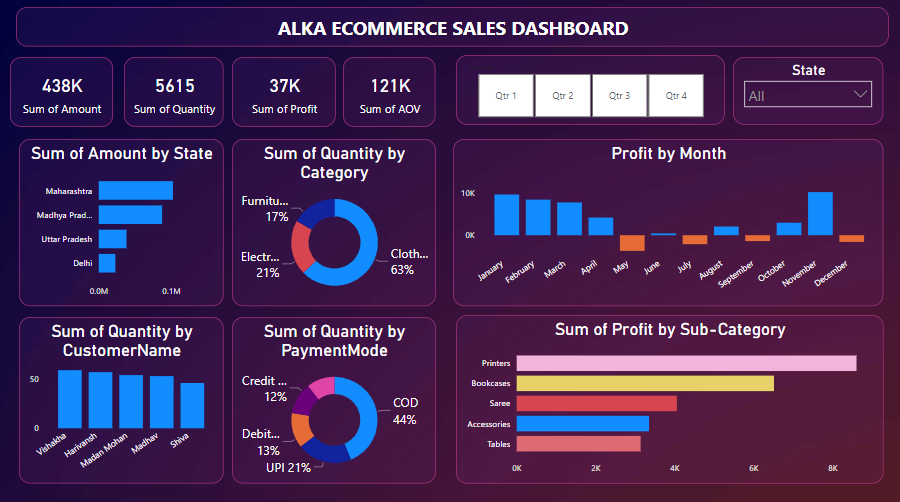

The page's visual inventory and layout, read from the dashboard file:
{"tool":"powerbi","page":{"name":"Page 1","canvas":[1280,720],"ordinal":0},"visuals":[{"type":"columnChart","title":" Profit by Month","fields":{"Y":["Details.Profit"],"Category":["Orders.Order Date.Variation.Date Hierarchy.Month"]},"box":[644.3,201.4,610,237.1],"z":2},{"type":"barChart","fields":{"Category":["Details.Sub-Category"],"Y":["Details.Profit"]},"box":[648.6,450,605.7,238.6],"z":3},{"type":"donutChart","fields":{"Category":["Details.Category"],"Y":["Details.Quantity"]},"box":[331.4,201.4,288.6,237.1],"z":4},{"type":"donutChart","fields":{"Category":["Details.PaymentMode","Details.Category"],"Y":["Details.Quantity"]},"box":[331.4,452.9,288.6,235.7],"z":5},{"type":"card","fields":{"Values":["Details.Amount"]},"box":[17.1,85.7,145.7,98.6],"z":6},{"type":"card","fields":{"Values":["Details.Quantity"]},"box":[178.6,85.7,141.4,98.6],"z":7},{"type":"card","fields":{"Values":["Details.Profit"]},"box":[331.4,85.7,147.1,98.6],"z":8},{"type":"card","fields":{"Values":["Details.AOV"]},"box":[488.6,85.7,131.4,98.6],"z":9},{"type":"barChart","fields":{"Category":["Orders.State"],"Y":["Details.Amount"]},"box":[30,201.4,290,237.1],"z":10},{"type":"columnChart","fields":{"Category":["Orders.CustomerName"],"Y":["Details.Quantity"]},"box":[30,452.9,290,235.7],"z":11},{"type":"slicer","fields":{"Values":["Orders.Order Date.Variation.Date Hierarchy.Quarter"]},"box":[648.6,82.9,381.4,98.6],"z":13},{"type":"slicer","title":"State","fields":{"Values":["Orders.State"]},"box":[1041.4,85.7,212.9,95.7],"z":14},{"type":"textbox","box":[25.7,14.3,1237.1,55.7],"z":15}]}

Visuals, with their boxes in screenshot pixels (x1, y1, x2, y2), scaled from the page's 1280x720 canvas onto the 900x502 screenshot:
" Profit by Month" columnChart: <box>453,140,882,306</box>
barChart - Details.Sub-Category x Details.Profit: <box>456,314,882,480</box>
donutChart - Details.Category x Details.Quantity: <box>233,140,436,306</box>
donutChart - Details.PaymentMode x Details.Category: <box>233,316,436,480</box>
card - Details.Amount: <box>12,60,114,128</box>
card - Details.Quantity: <box>126,60,225,128</box>
card - Details.Profit: <box>233,60,336,128</box>
card - Details.AOV: <box>344,60,436,128</box>
barChart - Orders.State x Details.Amount: <box>21,140,225,306</box>
columnChart - Orders.CustomerName x Details.Quantity: <box>21,316,225,480</box>
slicer - Orders.Order Date.Variation.Date Hierarchy.Quarter: <box>456,58,724,127</box>
"State" slicer: <box>732,60,882,126</box>
textbox: <box>18,10,888,49</box>
